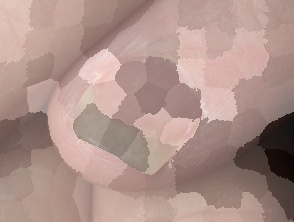Nail_psoriasis: (47, 17, 245, 199)
